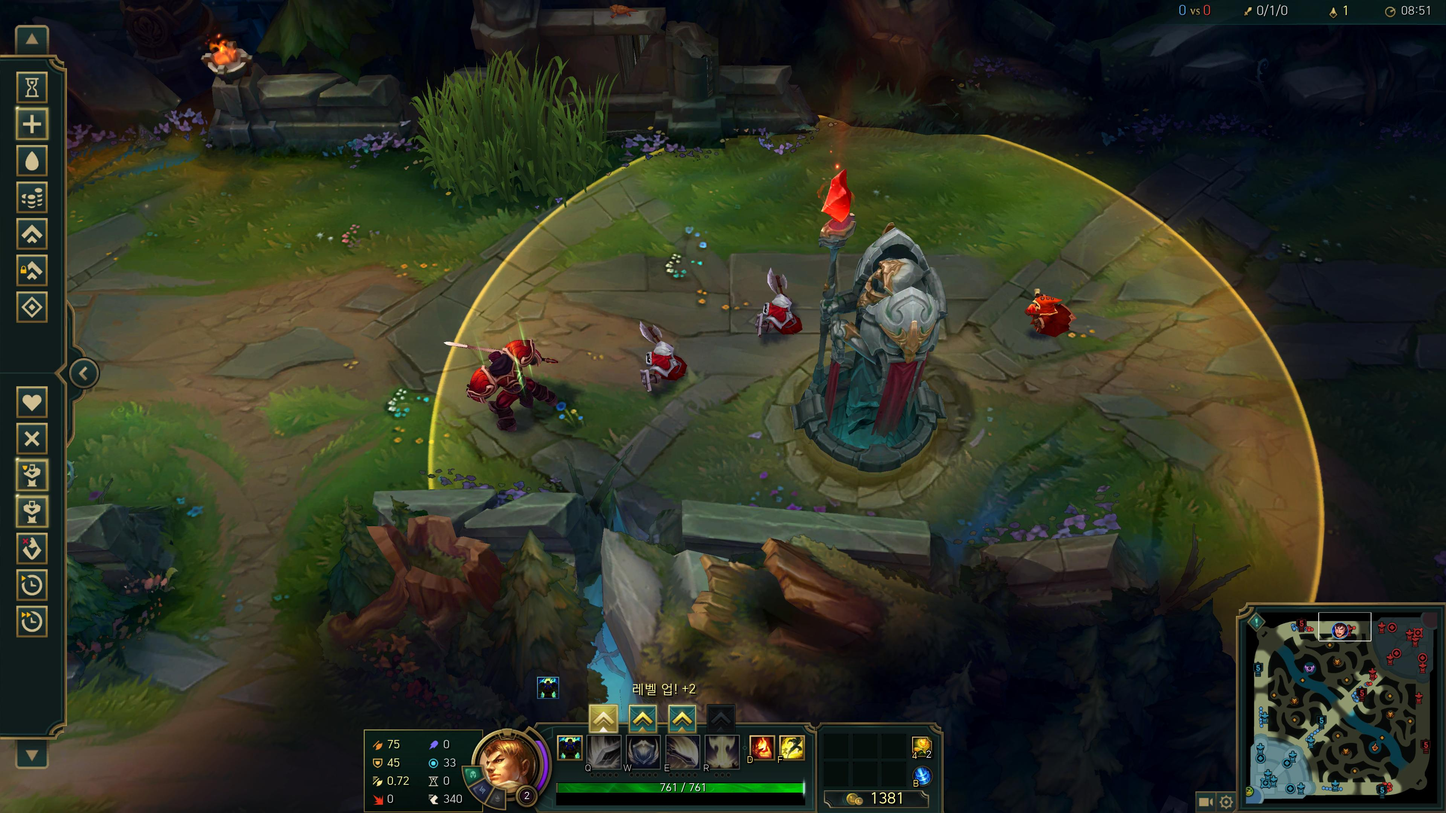enemy-melee-minion: (639, 320, 687, 391), (756, 266, 802, 335), (1027, 287, 1077, 336)
enemy-tower: (766, 169, 972, 508)
